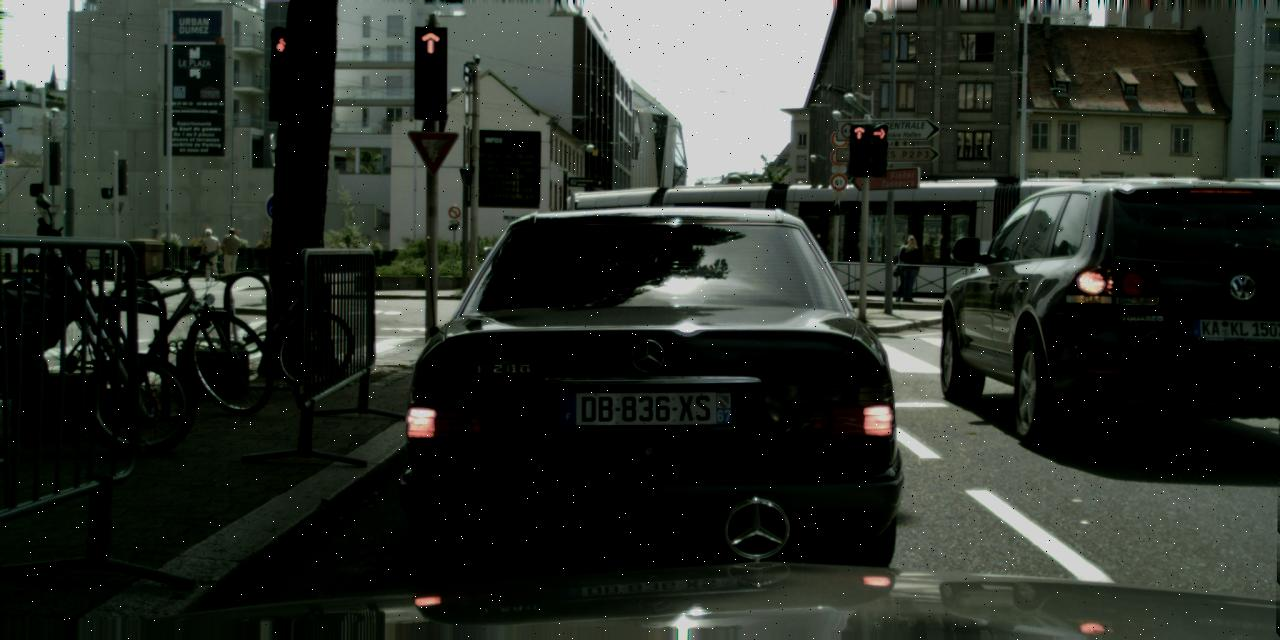ped: (891, 235, 918, 301), (895, 234, 922, 300), (199, 228, 220, 280), (220, 227, 241, 278)
